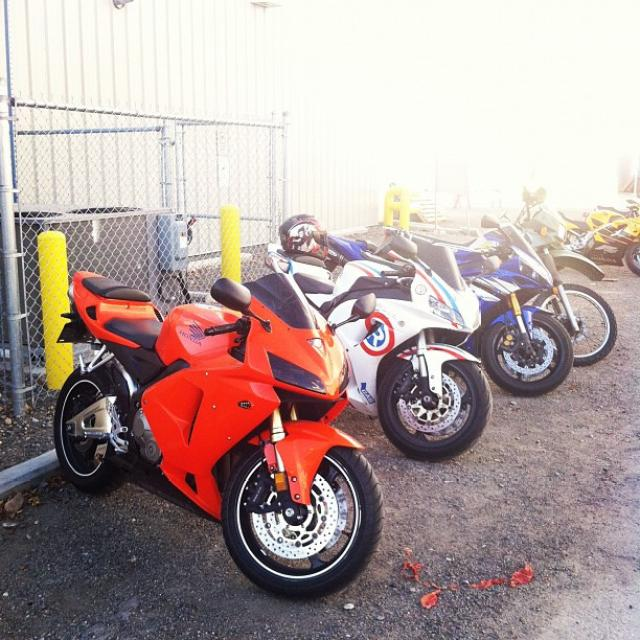motor: (56, 269, 385, 600), (266, 223, 496, 461), (410, 215, 573, 397), (498, 188, 618, 366), (552, 203, 640, 275)
